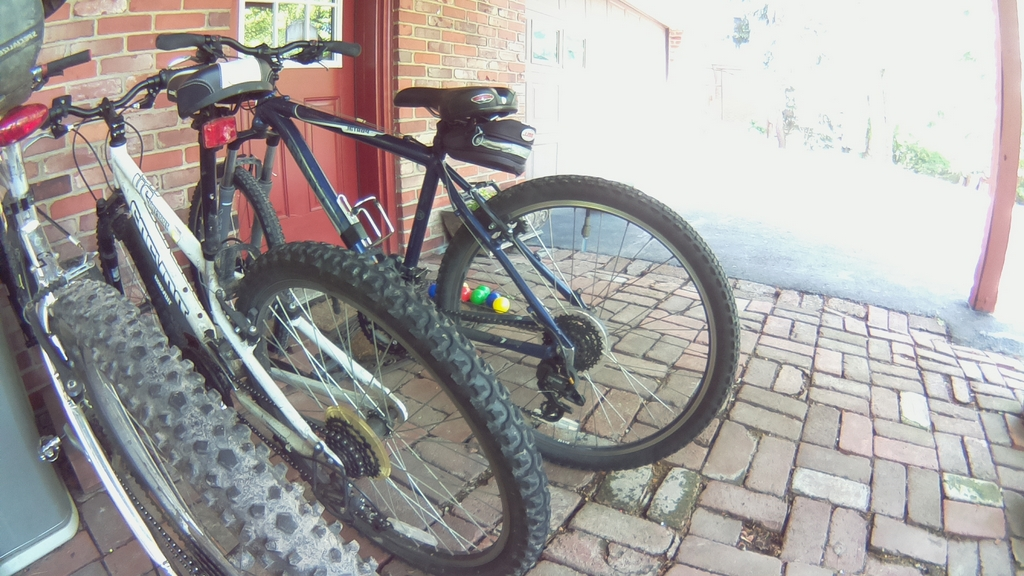ball: (494, 294, 510, 315)
